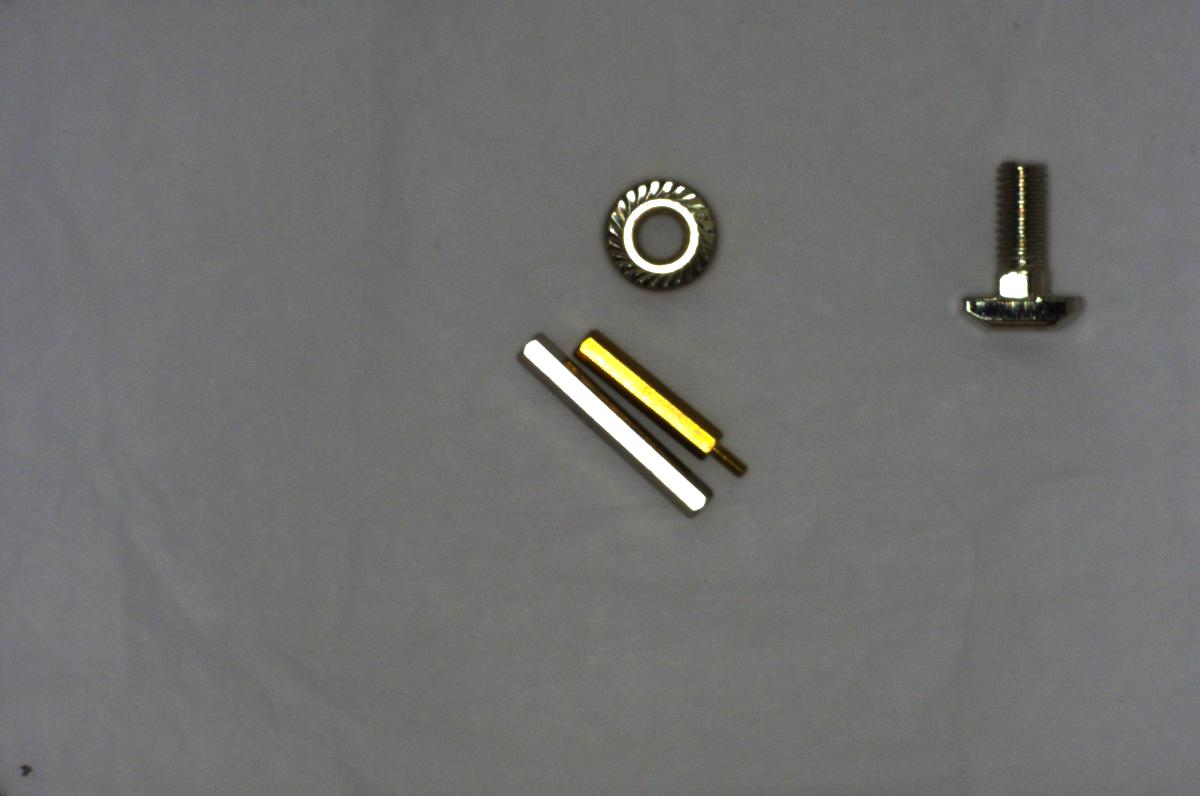Double hexagonal column: (502, 329, 714, 521)
Flange nut: (598, 168, 722, 298)
Hexagon pillar: (571, 325, 757, 480)
T-shaped screw: (952, 156, 1097, 350)
